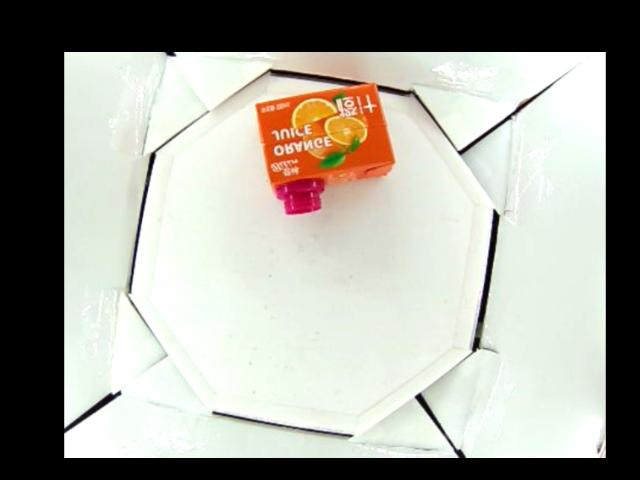Bottle: (254, 80, 394, 216)
